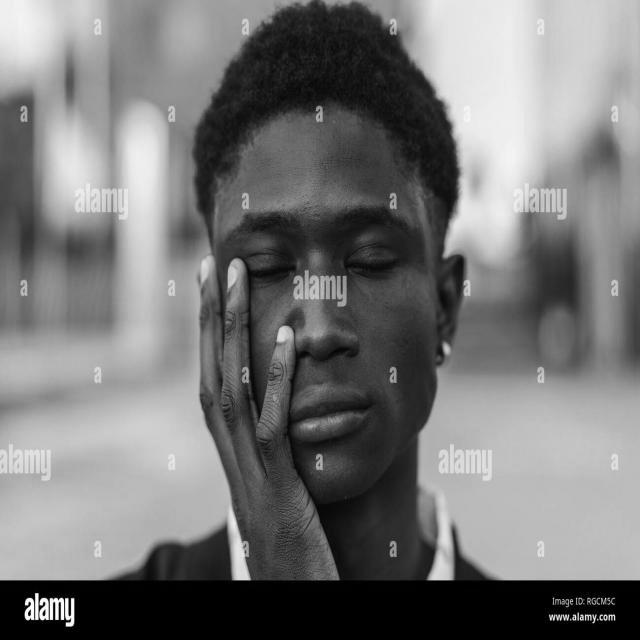real: (205, 109, 468, 508), (228, 204, 426, 309)
